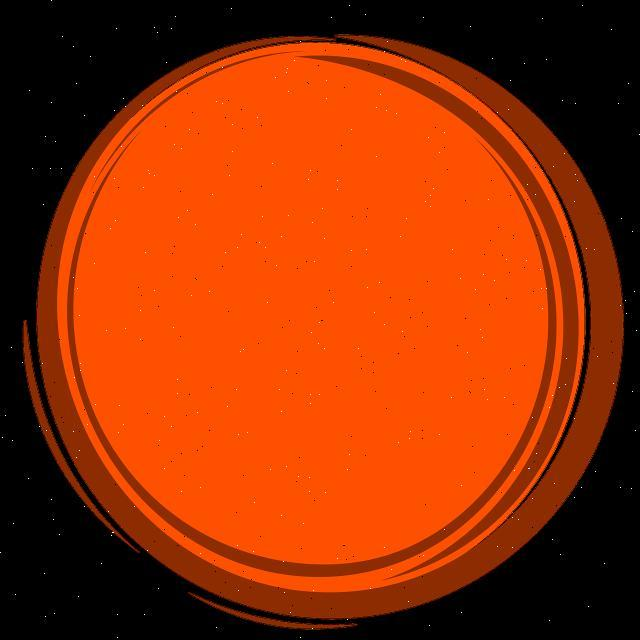Circle: (23, 36, 626, 631)
